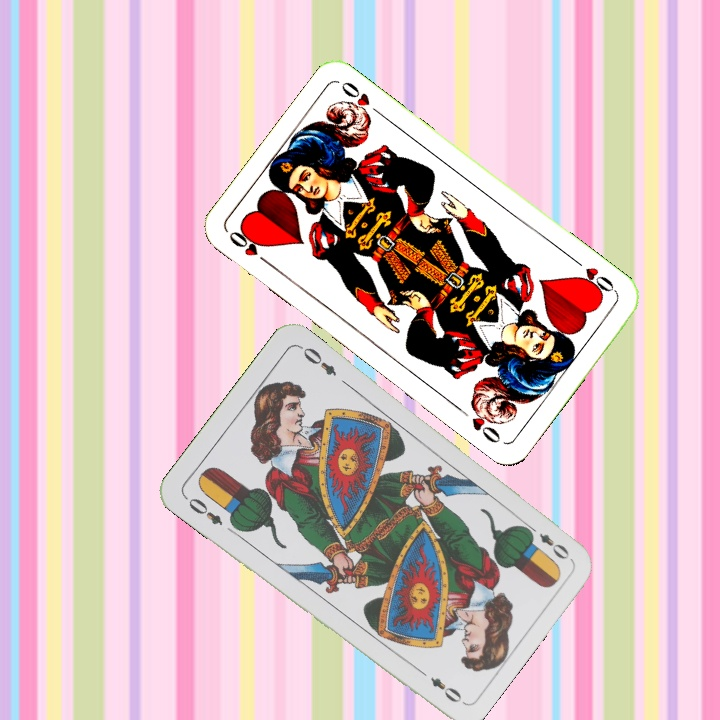EO: (522, 520, 573, 563), (180, 492, 226, 528)
HO: (568, 254, 619, 299), (224, 225, 274, 269)
